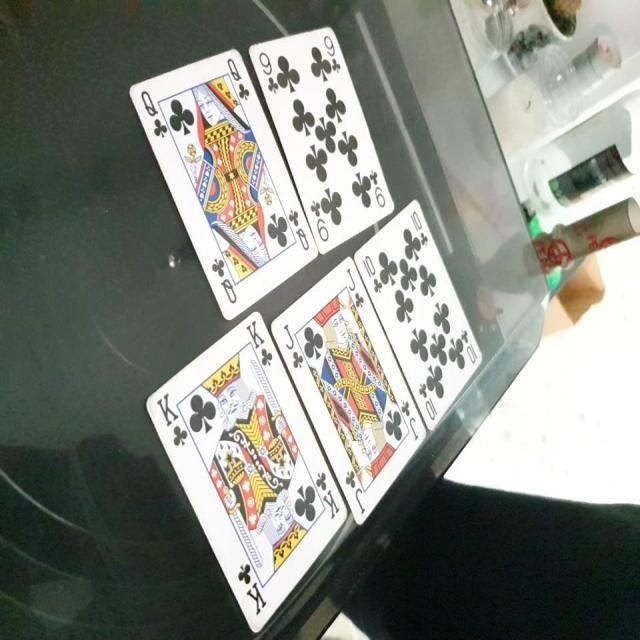10 of clubs: (351, 197, 482, 432)
9 of clubs: (248, 24, 396, 255)
jack of clubs: (269, 256, 428, 528)
king of clubs: (146, 310, 348, 636)
queen of clubs: (128, 47, 318, 326)
